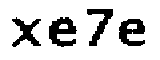7: (82, 6, 116, 48)
e: (47, 15, 80, 51), (118, 15, 152, 48)
x: (9, 16, 43, 48)
